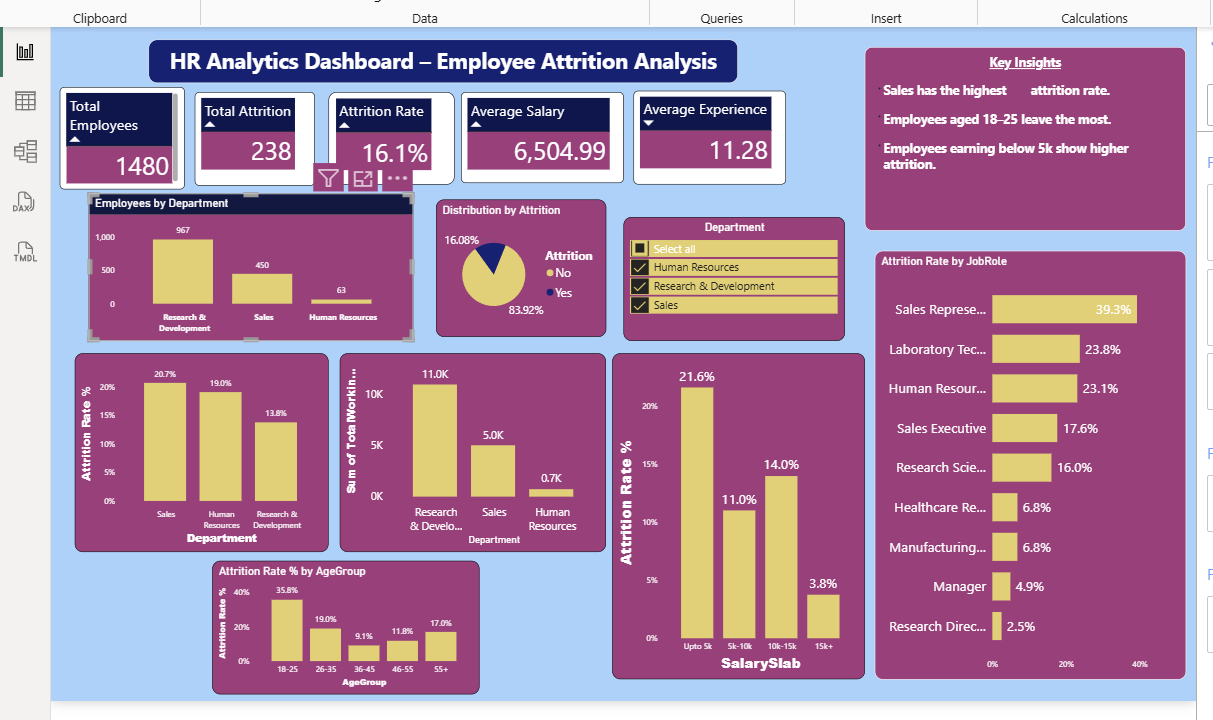

Layout of this report page (visuals, bound fields, positions):
{"tool":"powerbi","page":{"name":"Page 1","canvas":[1700,1000],"ordinal":0},"visuals":[{"type":"tableEx","fields":{"Values":["HR_Analytics Data.Total new Employees"]},"box":[13,89.1,185.6,152.2],"z":0},{"type":"tableEx","fields":{"Values":["HR_Analytics Data.Total Attrition"]},"box":[213.4,96.5,178.2,139.2],"z":1000},{"type":"tableEx","fields":{"Values":["HR_Analytics Data.Average Salary"]},"box":[608.7,96.5,241.3,135.5],"z":2000},{"type":"tableEx","fields":{"Values":["HR_Analytics Data.Average Experience"]},"box":[864.8,94.7,226.4,139.2],"z":3000},{"type":"tableEx","fields":{"Values":["HR_Analytics Data.Attrition Rate %"]},"box":[412,96.5,187.4,137.3],"z":4000},{"type":"clusteredColumnChart","title":"Employees by Department","fields":{"Category":["HR_Analytics Data.Department"],"Y":["CountNonNull(HR_Analytics Data.EmpID)"]},"box":[55.7,246.8,482.5,219],"z":5000},{"type":"columnChart","fields":{"Category":["HR_Analytics Data.Department"],"Y":["HR_Analytics Data.Attrition Rate %"]},"box":[35.3,484.4,376.7,295.1],"z":6000},{"type":"columnChart","fields":{"Category":["HR_Analytics Data.Department"],"Y":["Sum(HR_Analytics Data.TotalWorkingYears)"]},"box":[428.7,484.4,395.3,295.1],"z":7000},{"type":"pieChart","fields":{"Category":["HR_Analytics Data.Attrition"],"Y":["CountNonNull(HR_Analytics Data.EmpID)"]},"box":[571.6,256.1,252.4,204.1],"z":8000},{"type":"listSlicer","fields":{"Values":["HR_Analytics Data.Department"]},"box":[850,282.1,328.5,183.7],"z":9000},{"type":"columnChart","fields":{"Y":["HR_Analytics Data.Attrition Rate %"],"Category":["HR_Analytics Data.AgeGroup"]},"box":[239.4,792.5,397.2,198.6],"z":10000},{"type":"clusteredBarChart","fields":{"Category":["HR_Analytics Data.JobRole"],"Y":["HR_Analytics Data.Attrition Rate %"]},"box":[1223,332.2,462.1,636.6],"z":11000},{"type":"columnChart","fields":{"Y":["HR_Analytics Data.Attrition Rate %"],"Category":["HR_Analytics Data.SalarySlab"]},"box":[833.3,484.4,374.9,484.4],"z":12000},{"type":"textbox","box":[145.5,19.5,875.6,65],"z":13000},{"type":"textbox","box":[1208.2,29.7,477,272.8],"z":14000}]}

Visuals, with their boxes in screenshot pixels (x1, y1, x2, y2):
tableEx - HR_Analytics Data.Total new Employees: crop(50, 83, 176, 186)
tableEx - HR_Analytics Data.Total Attrition: crop(186, 88, 307, 182)
tableEx - HR_Analytics Data.Average Salary: crop(454, 88, 618, 180)
tableEx - HR_Analytics Data.Average Experience: crop(628, 86, 782, 181)
tableEx - HR_Analytics Data.Attrition Rate %: crop(321, 88, 448, 181)
"Employees by Department" clusteredColumnChart: crop(79, 190, 406, 338)
columnChart - HR_Analytics Data.Department x HR_Analytics Data.Attrition Rate %: crop(65, 351, 321, 551)
columnChart - HR_Analytics Data.Department x Sum(HR_Analytics Data.TotalWorkingYears): crop(332, 351, 600, 551)
pieChart - HR_Analytics Data.Attrition x CountNonNull(HR_Analytics Data.EmpID): crop(429, 196, 600, 334)
listSlicer - HR_Analytics Data.Department: crop(618, 214, 841, 338)
columnChart - HR_Analytics Data.Attrition Rate % x HR_Analytics Data.AgeGroup: crop(204, 560, 473, 695)
clusteredBarChart - HR_Analytics Data.JobRole x HR_Analytics Data.Attrition Rate %: crop(871, 248, 1185, 680)
columnChart - HR_Analytics Data.Attrition Rate % x HR_Analytics Data.SalarySlab: crop(607, 351, 861, 680)
textbox: crop(140, 35, 734, 79)
textbox: crop(861, 42, 1185, 227)
